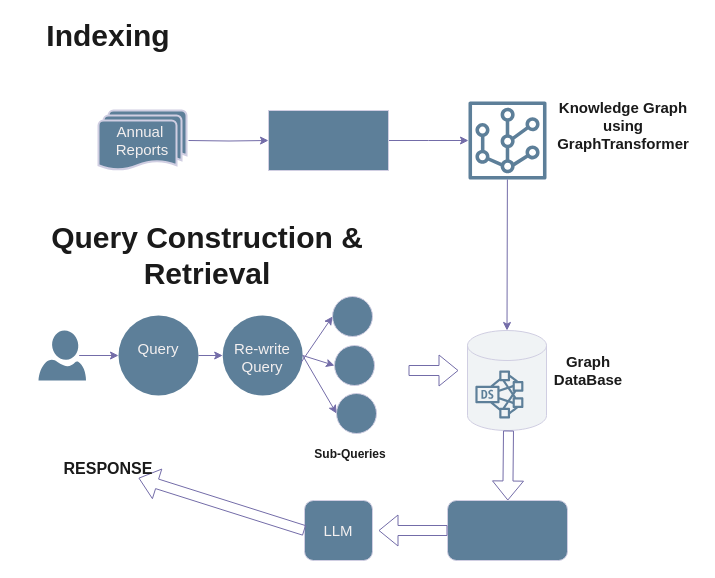
Image size: 715x578. Some labels were removed from this diagram. Each missing label, with the centre of its shape:
Context: [507,530]
Processing: Derive text and tables: [328,140]
